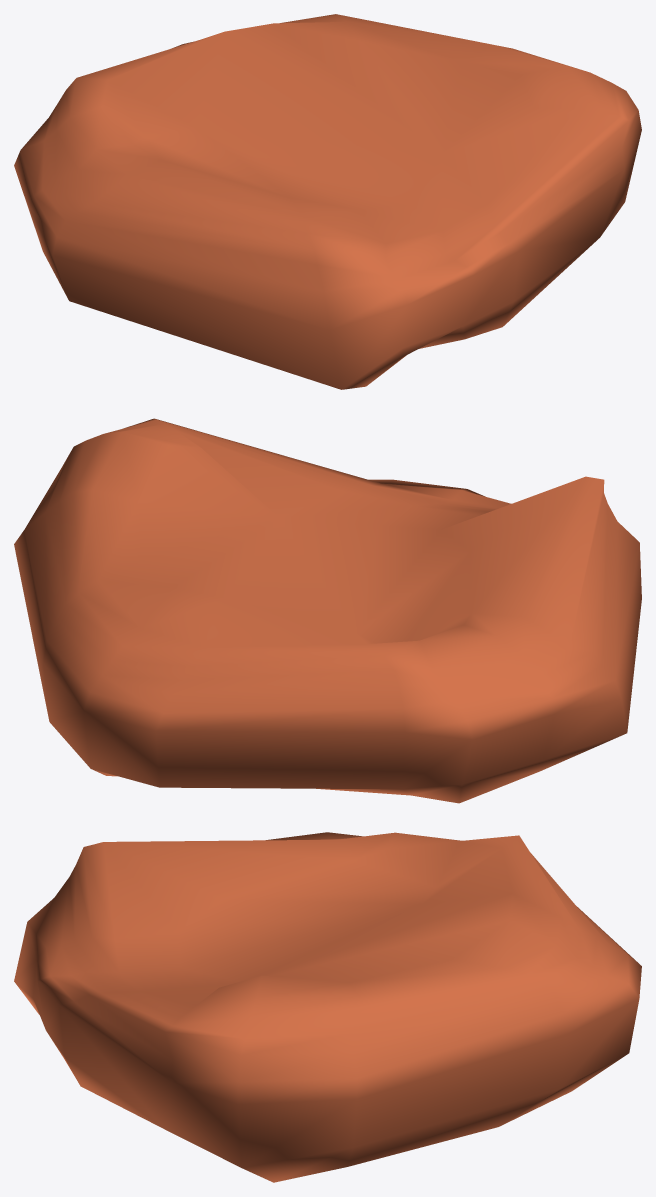
The model's file is oreiller.fbx.
The picture shows the model from 3 angles, top to bottom: view 1: azimuth 30°, elevation 25°; view 2: azimuth 150°, elevation 25°; view 3: azimuth 270°, elevation 25°; orthographic projection. The views are drawn at different scales.
Parts seen in each view (by area): view 1: oreiller1; view 2: oreiller1; view 3: oreiller1.
Boxes of the visible parts, box(x1,y1,x2,y2) form: oreiller1: box(14, 14, 641, 389); oreiller1: box(14, 418, 641, 803); oreiller1: box(14, 832, 641, 1182).
Bounding box in the file's own units: 1.95 × 0.5781 × 1.9.
